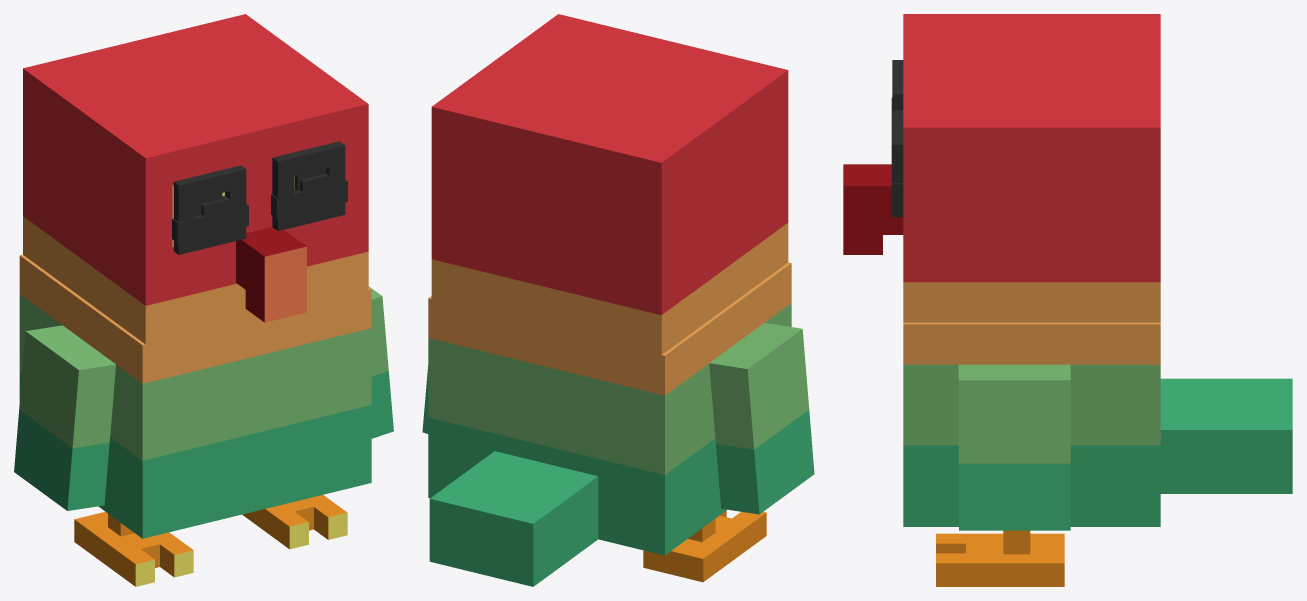
The picture shows the model from 3 angles, left to right: view 1: azimuth 30°, elevation 25°; view 2: azimuth 150°, elevation 25°; view 3: azimuth 270°, elevation 25°; orthographic projection. The views are drawn at different scales.
Parts seen in each view (by area): view 1: Ch_18_Head, Ch_18, Ch_18_Wing_L, Ch_18_Leg_L, Ch_18_Eye_03_R, Ch_18_Eye_03_L, Ch_18_Leg_R, Ch_18_Eye_02, Ch_18_Wing_R, Ch_18_Eye_01; view 2: Ch_18_Head, Ch_18, Ch_18_Wing_L, Ch_18_Leg_L; view 3: Ch_18_Head, Ch_18, Ch_18_Wing_R, Ch_18_Leg_R, Ch_18_Eye_03_R, Ch_18_Eye_03_L.
Part boxes in pixels (x1,y1,x2,y2): Ch_18_Head: (23,14,368,344); Ch_18: (19,254,371,538); Ch_18_Wing_L: (14,325,115,510); Ch_18_Leg_L: (74,511,193,586); Ch_18_Eye_03_R: (272,141,345,230); Ch_18_Eye_03_L: (173,165,246,254); Ch_18_Leg_R: (242,495,347,549); Ch_18_Eye_02: (172,180,347,242); Ch_18_Wing_R: (368,286,393,438); Ch_18_Eye_01: (195,168,326,215); Ch_18_Head: (431,14,788,354); Ch_18: (428,262,791,586); Ch_18_Wing_L: (709,323,814,514); Ch_18_Leg_L: (643,510,766,582); Ch_18_Head: (843,14,1160,322); Ch_18: (903,322,1292,526); Ch_18_Wing_R: (958,364,1070,530); Ch_18_Leg_R: (936,530,1064,586); Ch_18_Eye_03_R: (891,110,903,217); Ch_18_Eye_03_L: (892,60,903,110).
Size of the model in its own units: 8.08 by 10.43 by 9.19.
